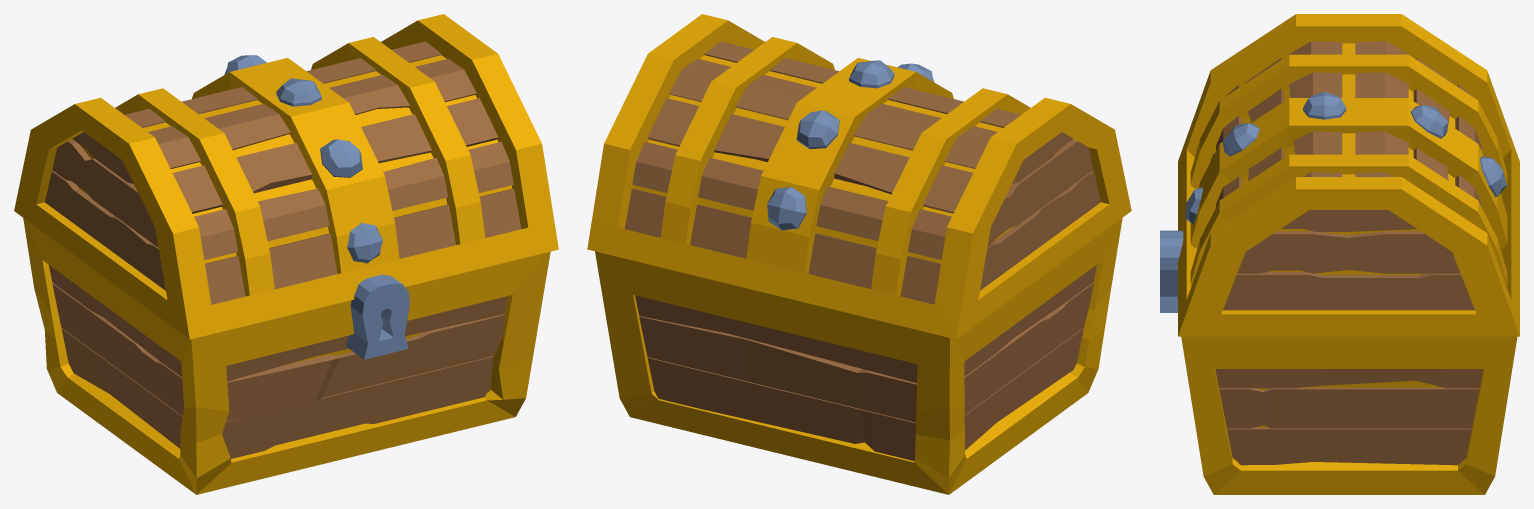
File: Cofre.fbx
3 renders of one model, left to right at view 1: azimuth 30°, elevation 25°; view 2: azimuth 150°, elevation 25°; view 3: azimuth 270°, elevation 25°, orthographic. The views are drawn at different scales.
Visible parts, largest first — view 1: Chest_Closed; view 2: Chest_Closed; view 3: Chest_Closed.
Part boxes in pixels (x1,y1,x2,y2): Chest_Closed: (14,14,558,494); Chest_Closed: (587,14,1131,494); Chest_Closed: (1160,14,1519,494).
Size of the model in its own units: 94.96 by 81.85 by 82.38.
